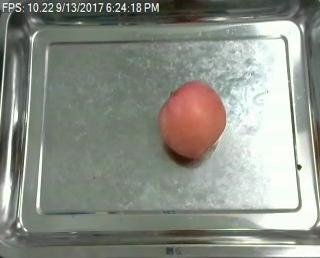apple: (159, 81, 227, 160)
